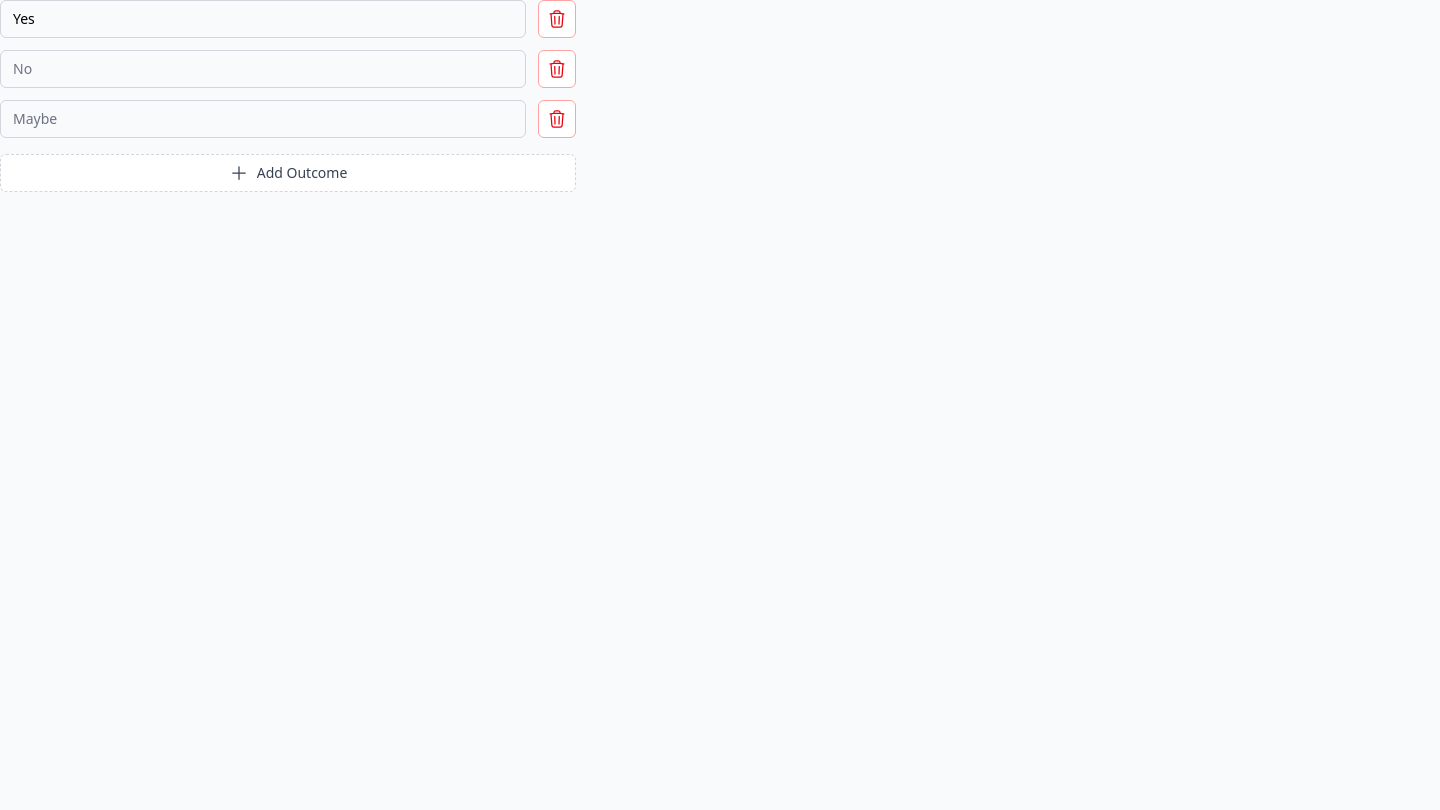
Test: OutcomesList › cancels outcome deletion when cancel is clicked
What coordinates should you click on to do the following:
click the button named "remove"
I would click on:
 (557, 19)
Its box is [538,0,576,38].
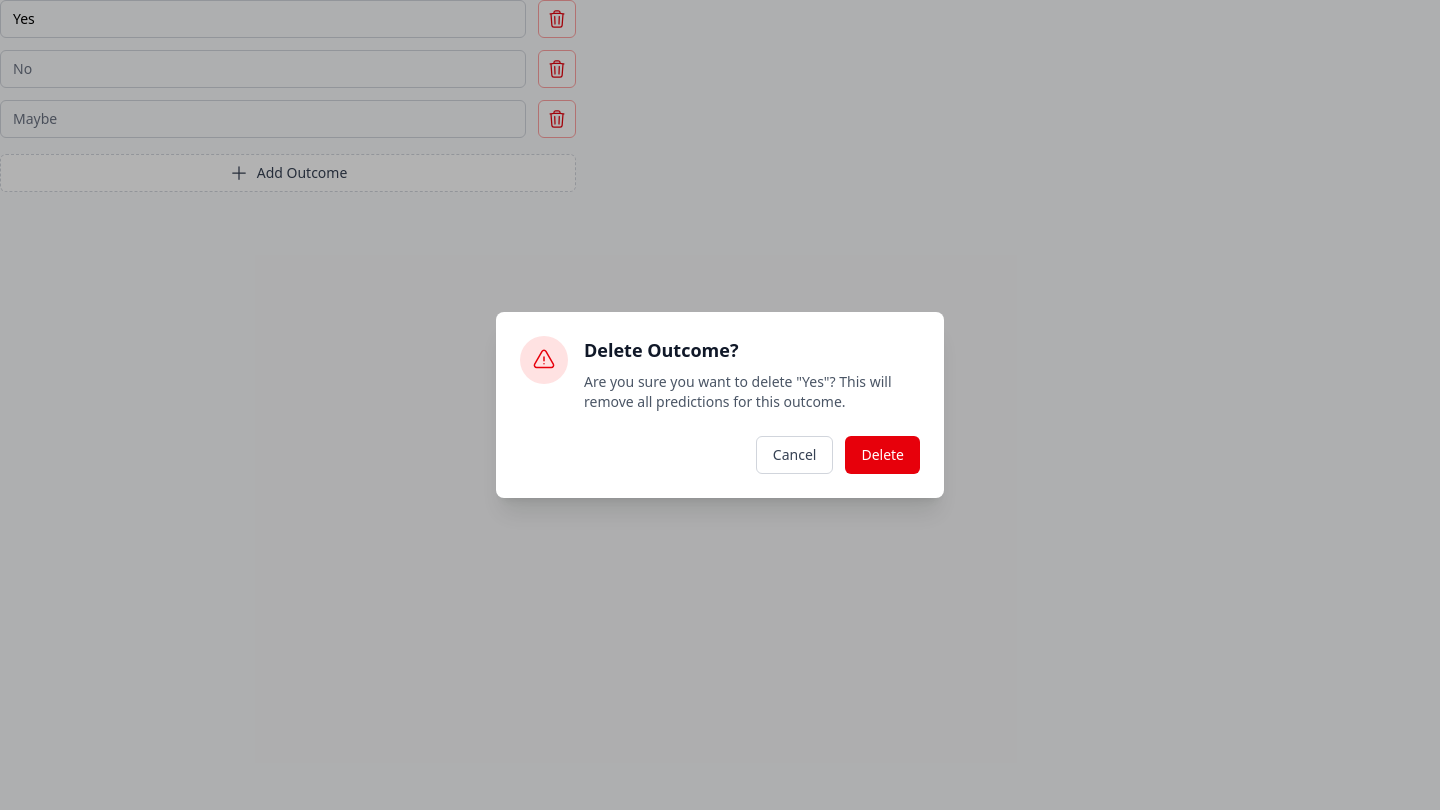
// Cancel deletion
What coordinates should you click on to do the following:
click the button "Cancel"
I would click on:
 (795, 455)
Its box is [756,436,833,474].
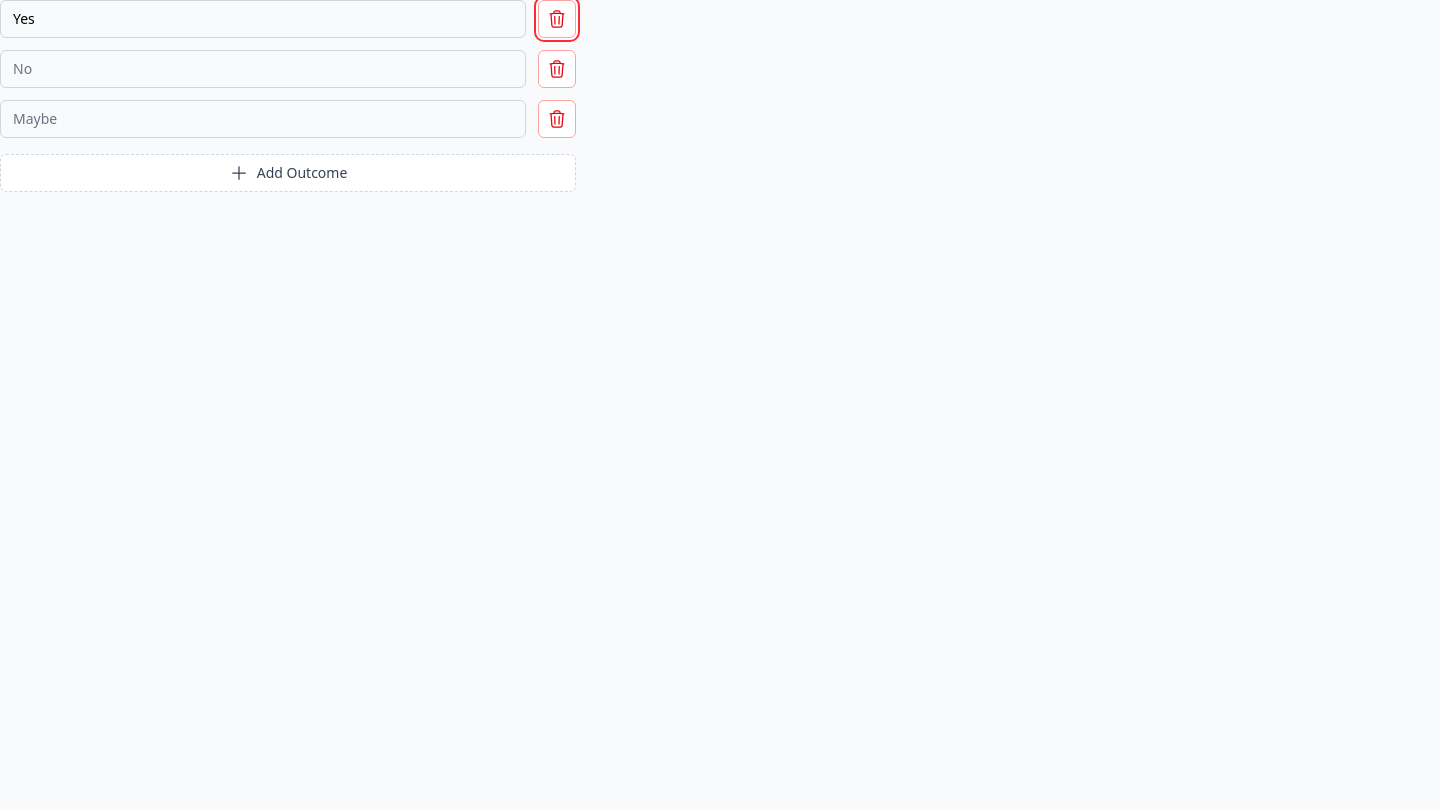
Check: the heading "Delete Outcome?" is gone
